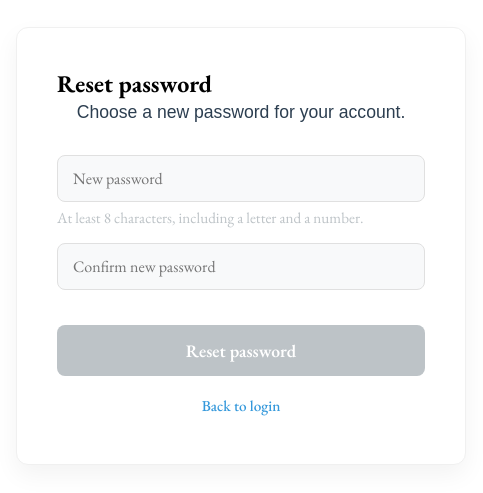
ResetPassword › shows the inline error when the token is invalid/expired
This screenshot has width=483, height=493.
Type "newpass123" into the password field with placeholder "New password" at (241, 179), box [57,155,425,202]
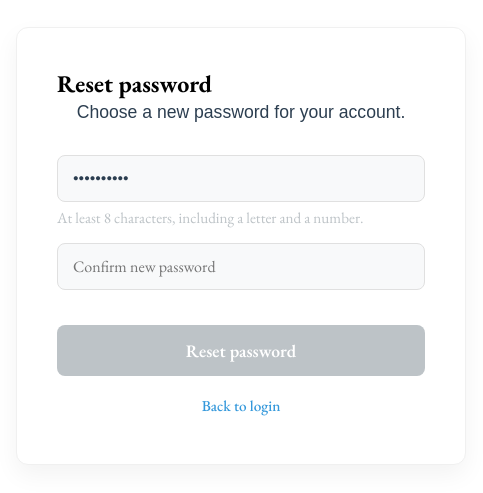
Type "newpass123" into the password field with placeholder "Confirm new password" at (241, 267), box [57,243,425,290]
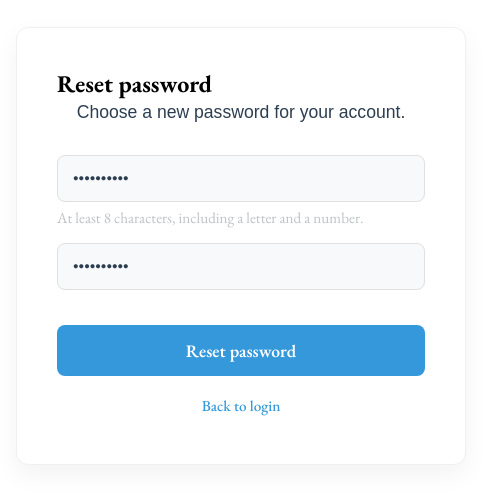
Submit the form with test id "reset-password", box [57,99,425,424]
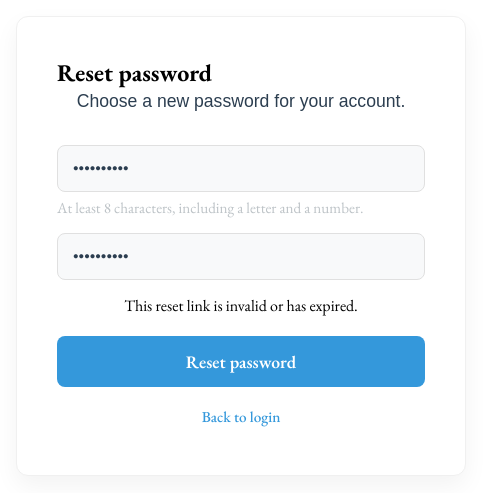
Result: the text "This reset link is invalid or has expired." is shown at [124,295,358,316]
